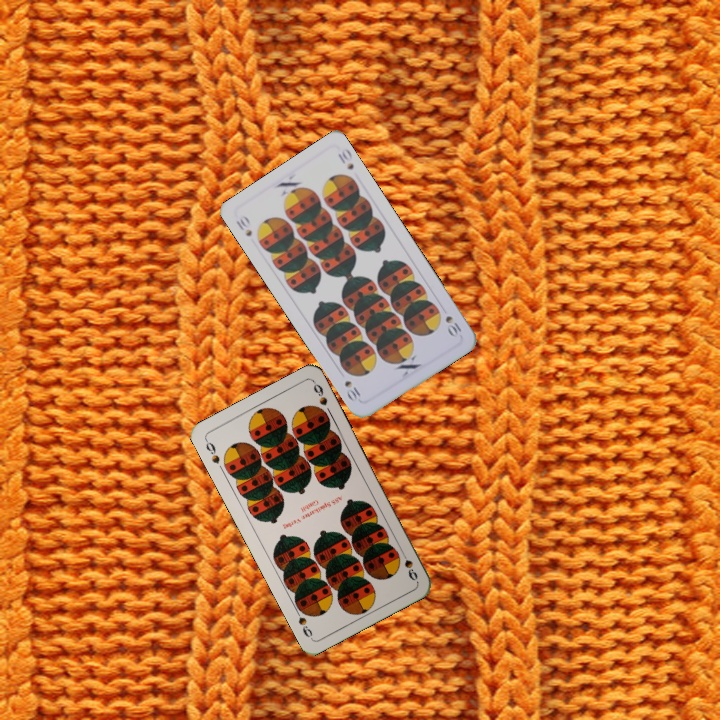S10: (441, 311, 464, 340), (232, 211, 255, 239)
S9: (396, 545, 420, 583), (201, 435, 223, 466)
